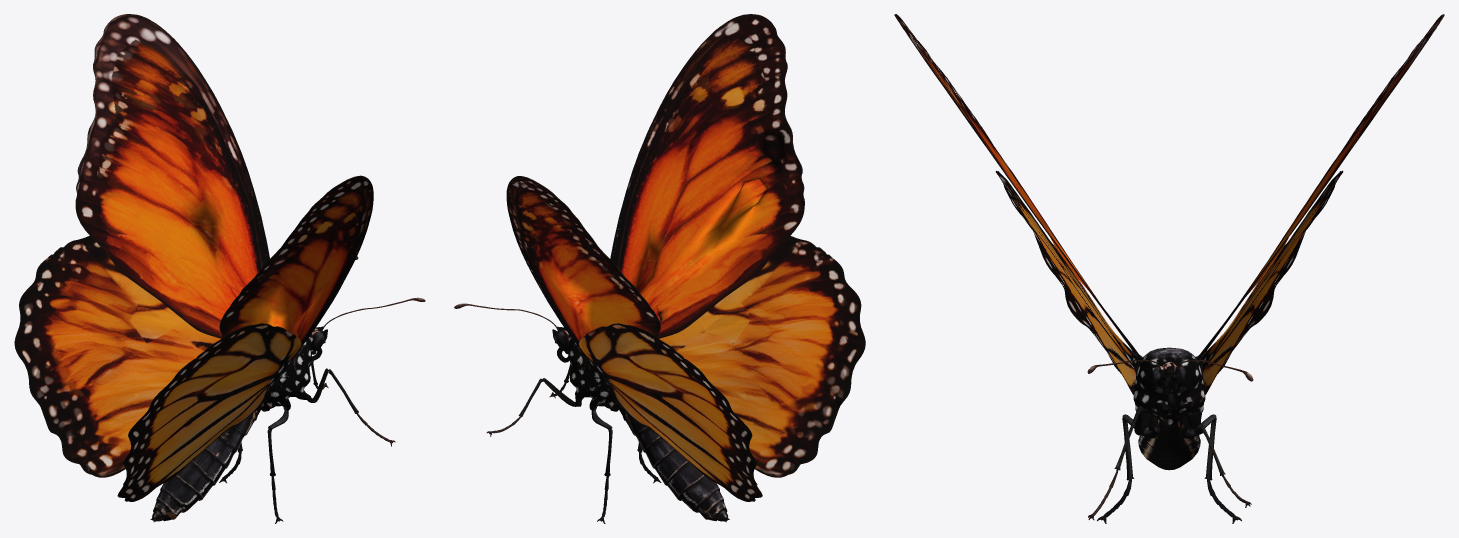
Rendered from monarch-butterfly-packed-v1.glb.
3 renders of one model, left to right at view 1: azimuth 30°, elevation 25°; view 2: azimuth 150°, elevation 25°; view 3: azimuth 270°, elevation 25°, orthographic. The views are drawn at different scales.
Visible parts, largest first — view 1: tripo_2ab9b2e0_3ea6_4464_903c_6d9c32157c95; view 2: tripo_2ab9b2e0_3ea6_4464_903c_6d9c32157c95; view 3: tripo_2ab9b2e0_3ea6_4464_903c_6d9c32157c95.
Part boxes in pixels (x1=…): tripo_2ab9b2e0_3ea6_4464_903c_6d9c32157c95: x1=14, y1=14, x2=425, y2=523; tripo_2ab9b2e0_3ea6_4464_903c_6d9c32157c95: x1=454, y1=14, x2=865, y2=523; tripo_2ab9b2e0_3ea6_4464_903c_6d9c32157c95: x1=894, y1=14, x2=1444, y2=523.
Bounding box in the file's own units: 0.813 × 0.9956 × 0.9995.
1 material, 1 textured.
